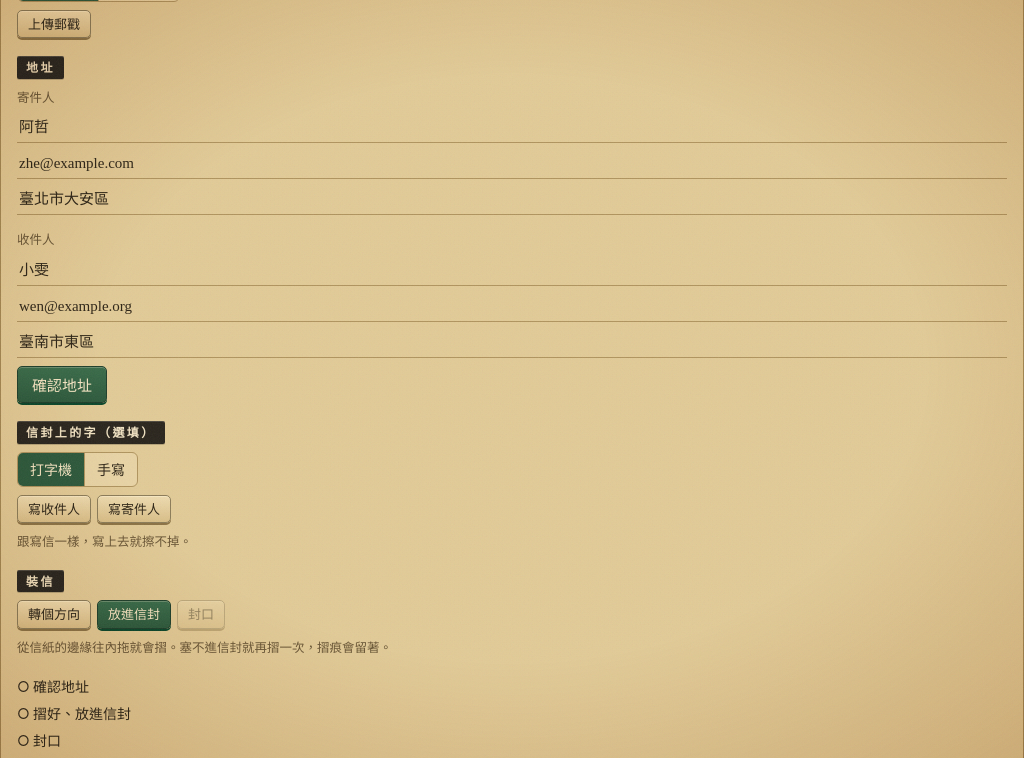
Scenario: 郵局 › 櫃台：確認地址前會提醒「如無法收信，退回所需時間很長」
(page scrolled)
Click the button "確認地址": (62, 384) [17,366,107,403]
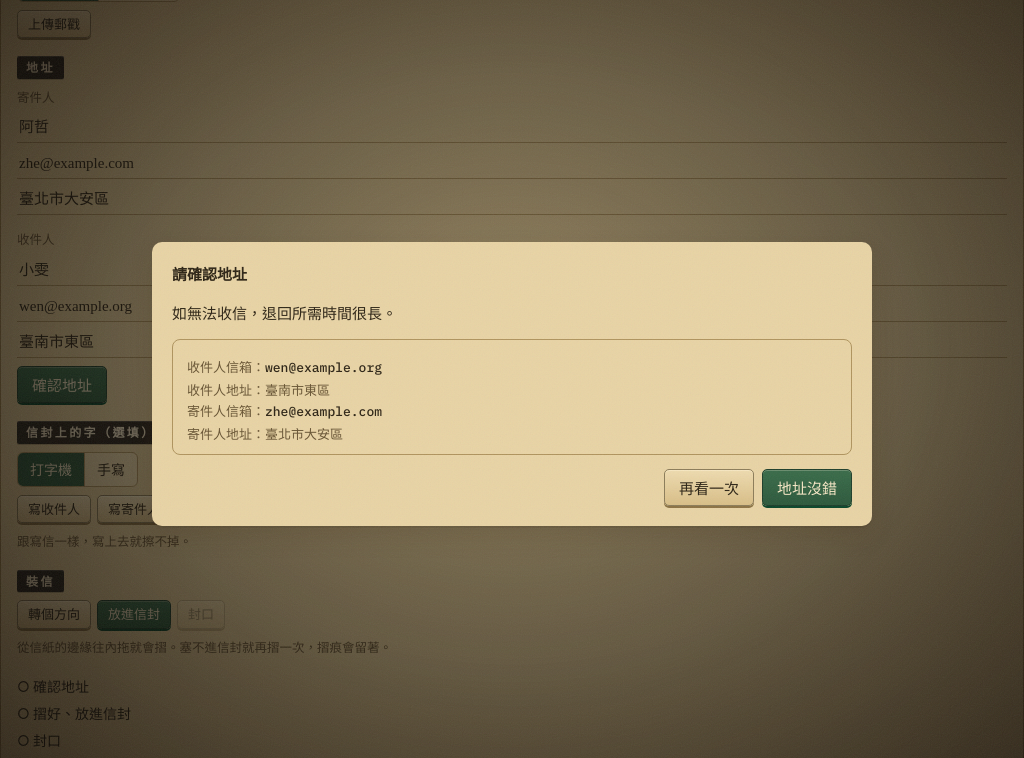
Result: the text "如無法收信，退回所需時間很長。" is shown at [172,302,397,323]
Click the button "地址沒錯": (807, 488) [762,469,852,506]
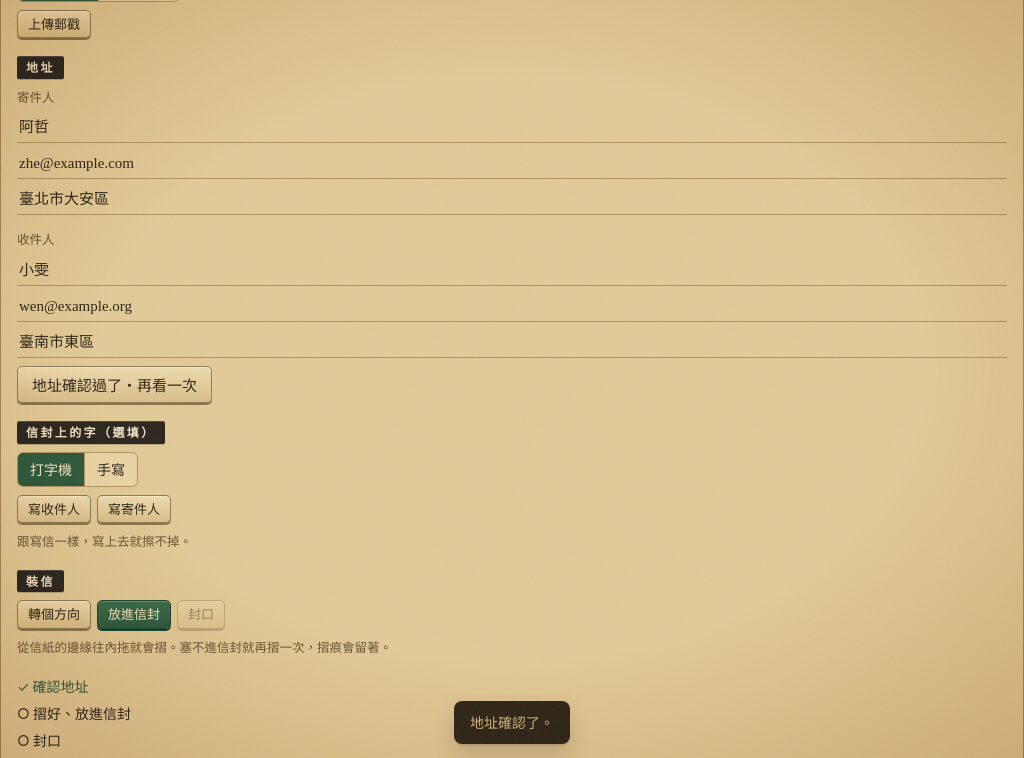
Result: the button "地址確認過了・再看一次" is shown at [17,366,212,403]
